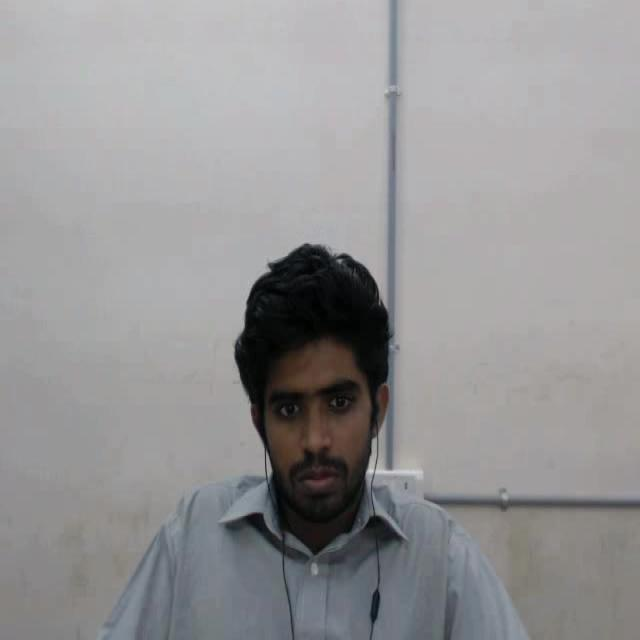Engaged: (216, 244, 406, 561)
